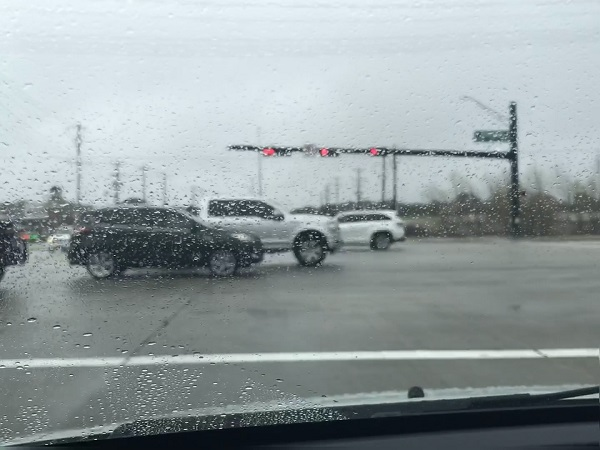car: (70, 207, 263, 279), (327, 208, 405, 250)
traffic light: (260, 146, 274, 159), (365, 145, 378, 156), (317, 146, 327, 158)
truck: (189, 196, 342, 266)
